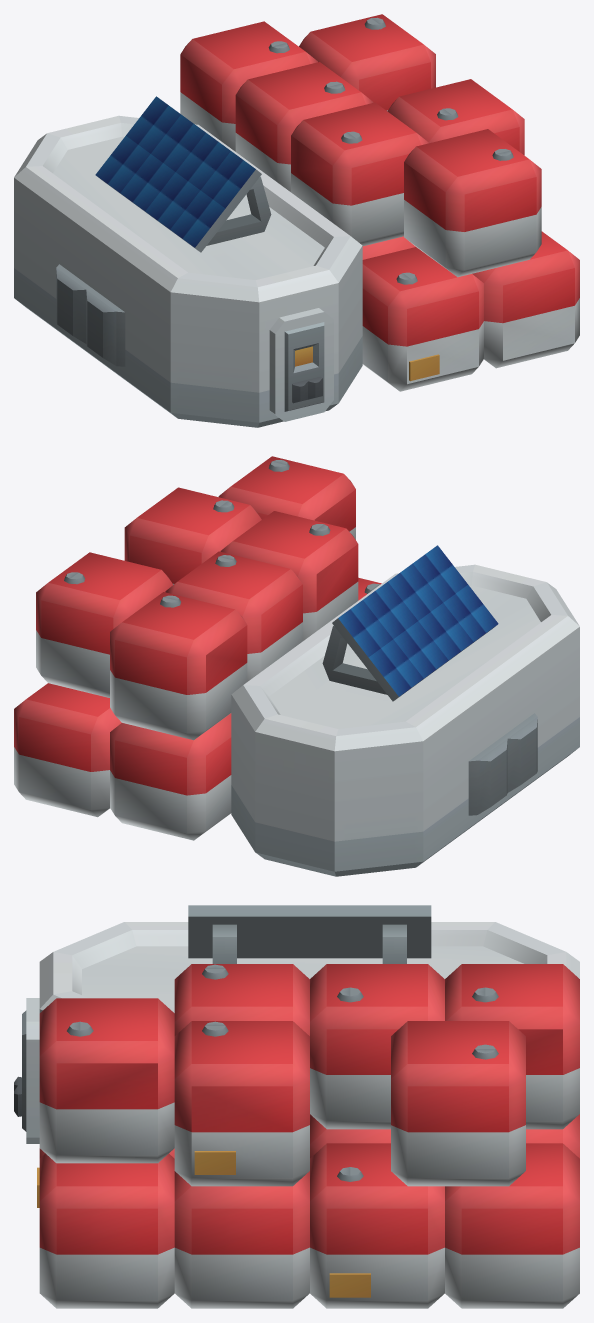
Rendered from cargo.glb.
3 views of the same model, one above another, from view 1: azimuth 30°, elevation 25°; view 2: azimuth 150°, elevation 25°; view 3: azimuth 270°, elevation 25° (orthographic). The views are drawn at different scales.
Visible parts, largest first — view 1: cargodepot_C; view 2: cargodepot_C; view 3: cargodepot_C.
Boxes of the visible parts, x1=… form: cargodepot_C: x1=14, y1=14, x2=579, y2=427; cargodepot_C: x1=14, y1=456, x2=579, y2=876; cargodepot_C: x1=14, y1=905, x2=579, y2=1308.
Bounding box in the file's own units: 2.07 × 1.02 × 2.1.
1 material, 1 textured.
